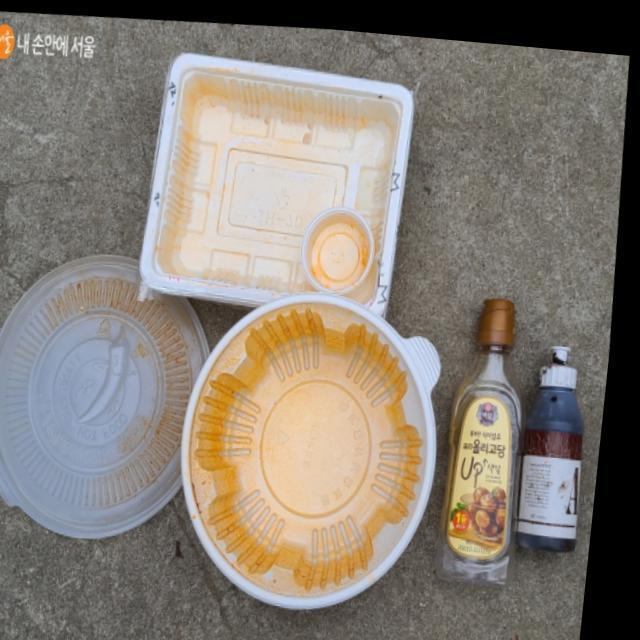disposable: (73, 238, 460, 608), (99, 6, 442, 339)
